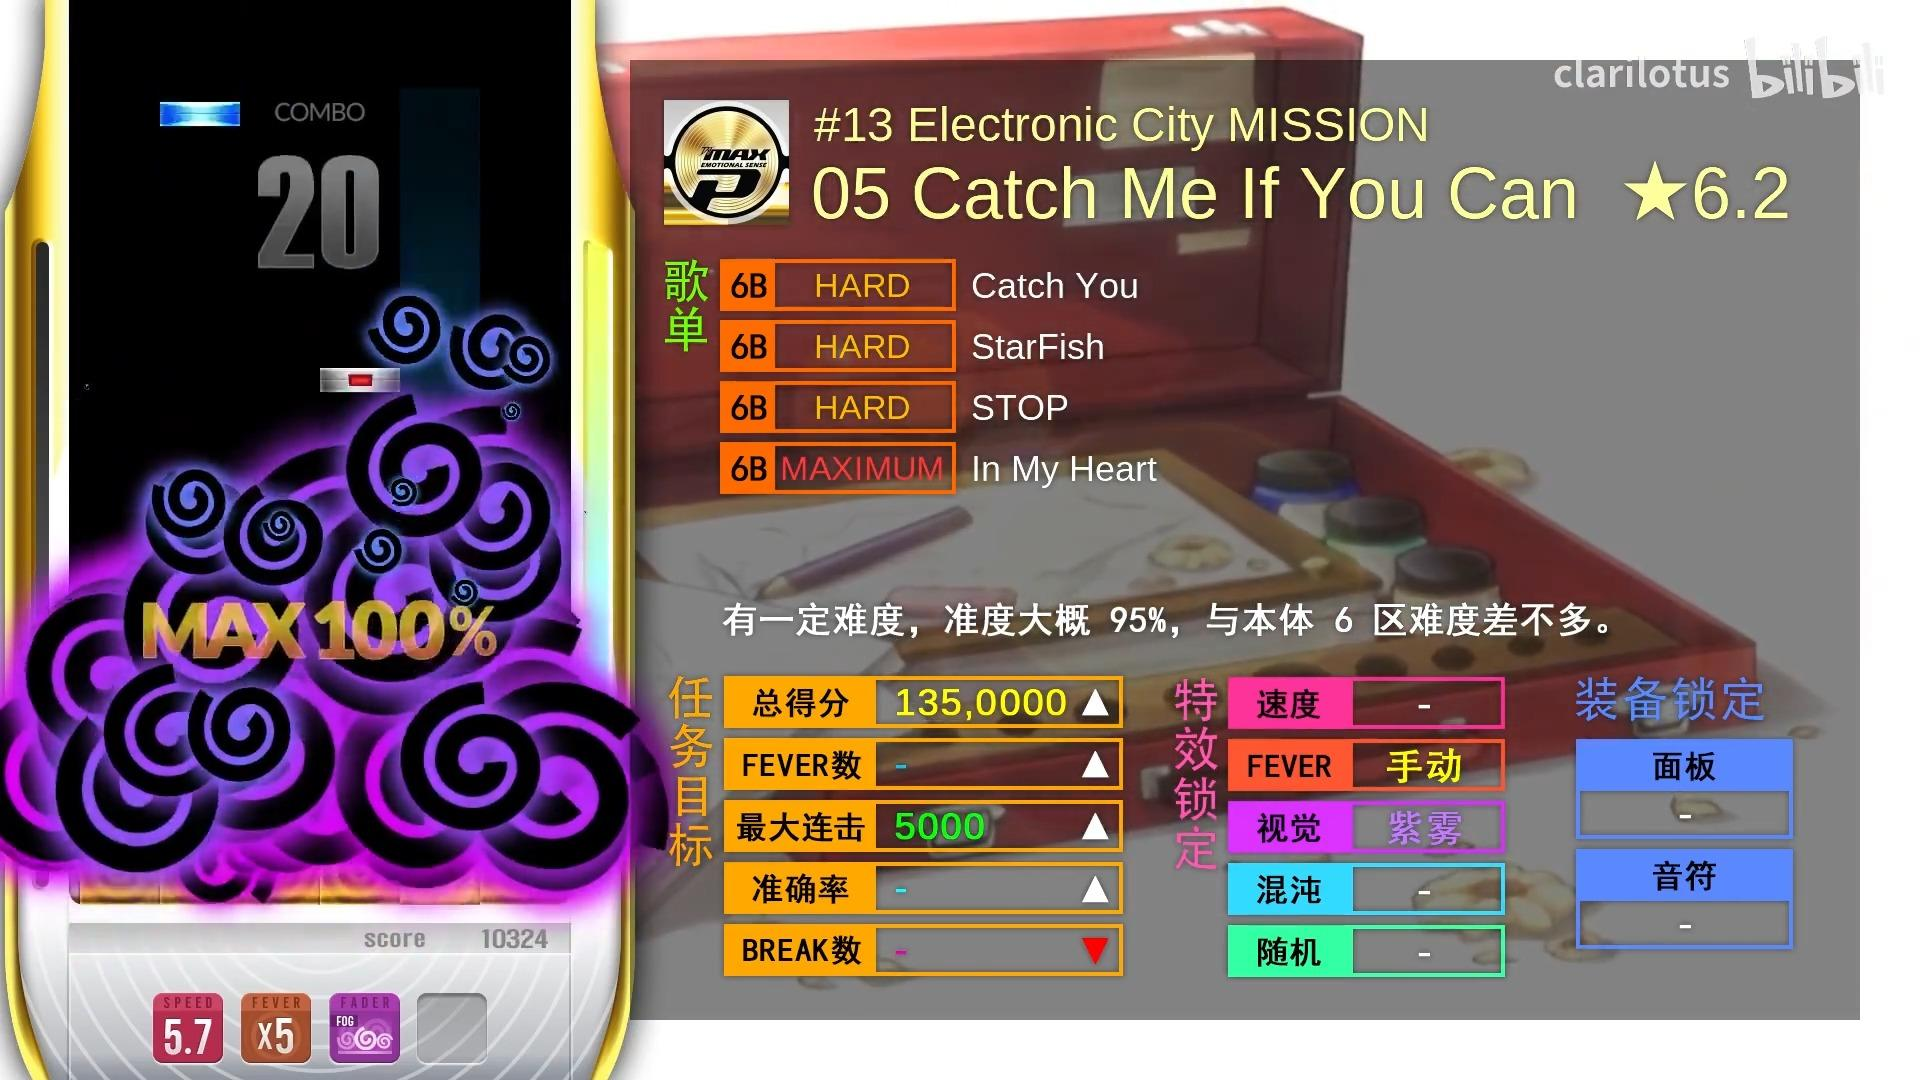note: (160, 100, 240, 127), (320, 367, 401, 393)
